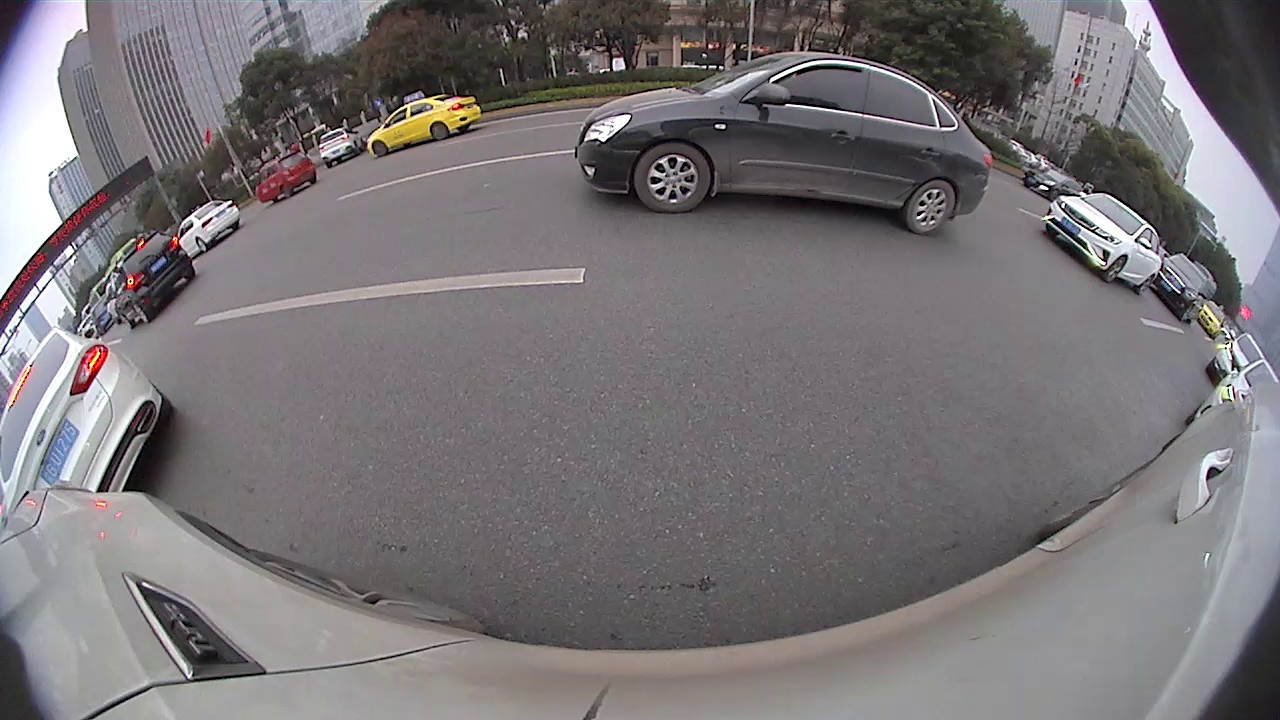car: (575, 47, 996, 240), (4, 319, 179, 516), (1042, 188, 1166, 294), (109, 233, 199, 333), (364, 90, 482, 161), (1155, 253, 1209, 324), (181, 195, 244, 254), (254, 152, 317, 204)
front: (635, 141, 713, 214), (1103, 253, 1125, 284), (372, 140, 388, 157)
rear: (909, 178, 957, 240), (131, 300, 151, 324), (430, 122, 448, 141)
